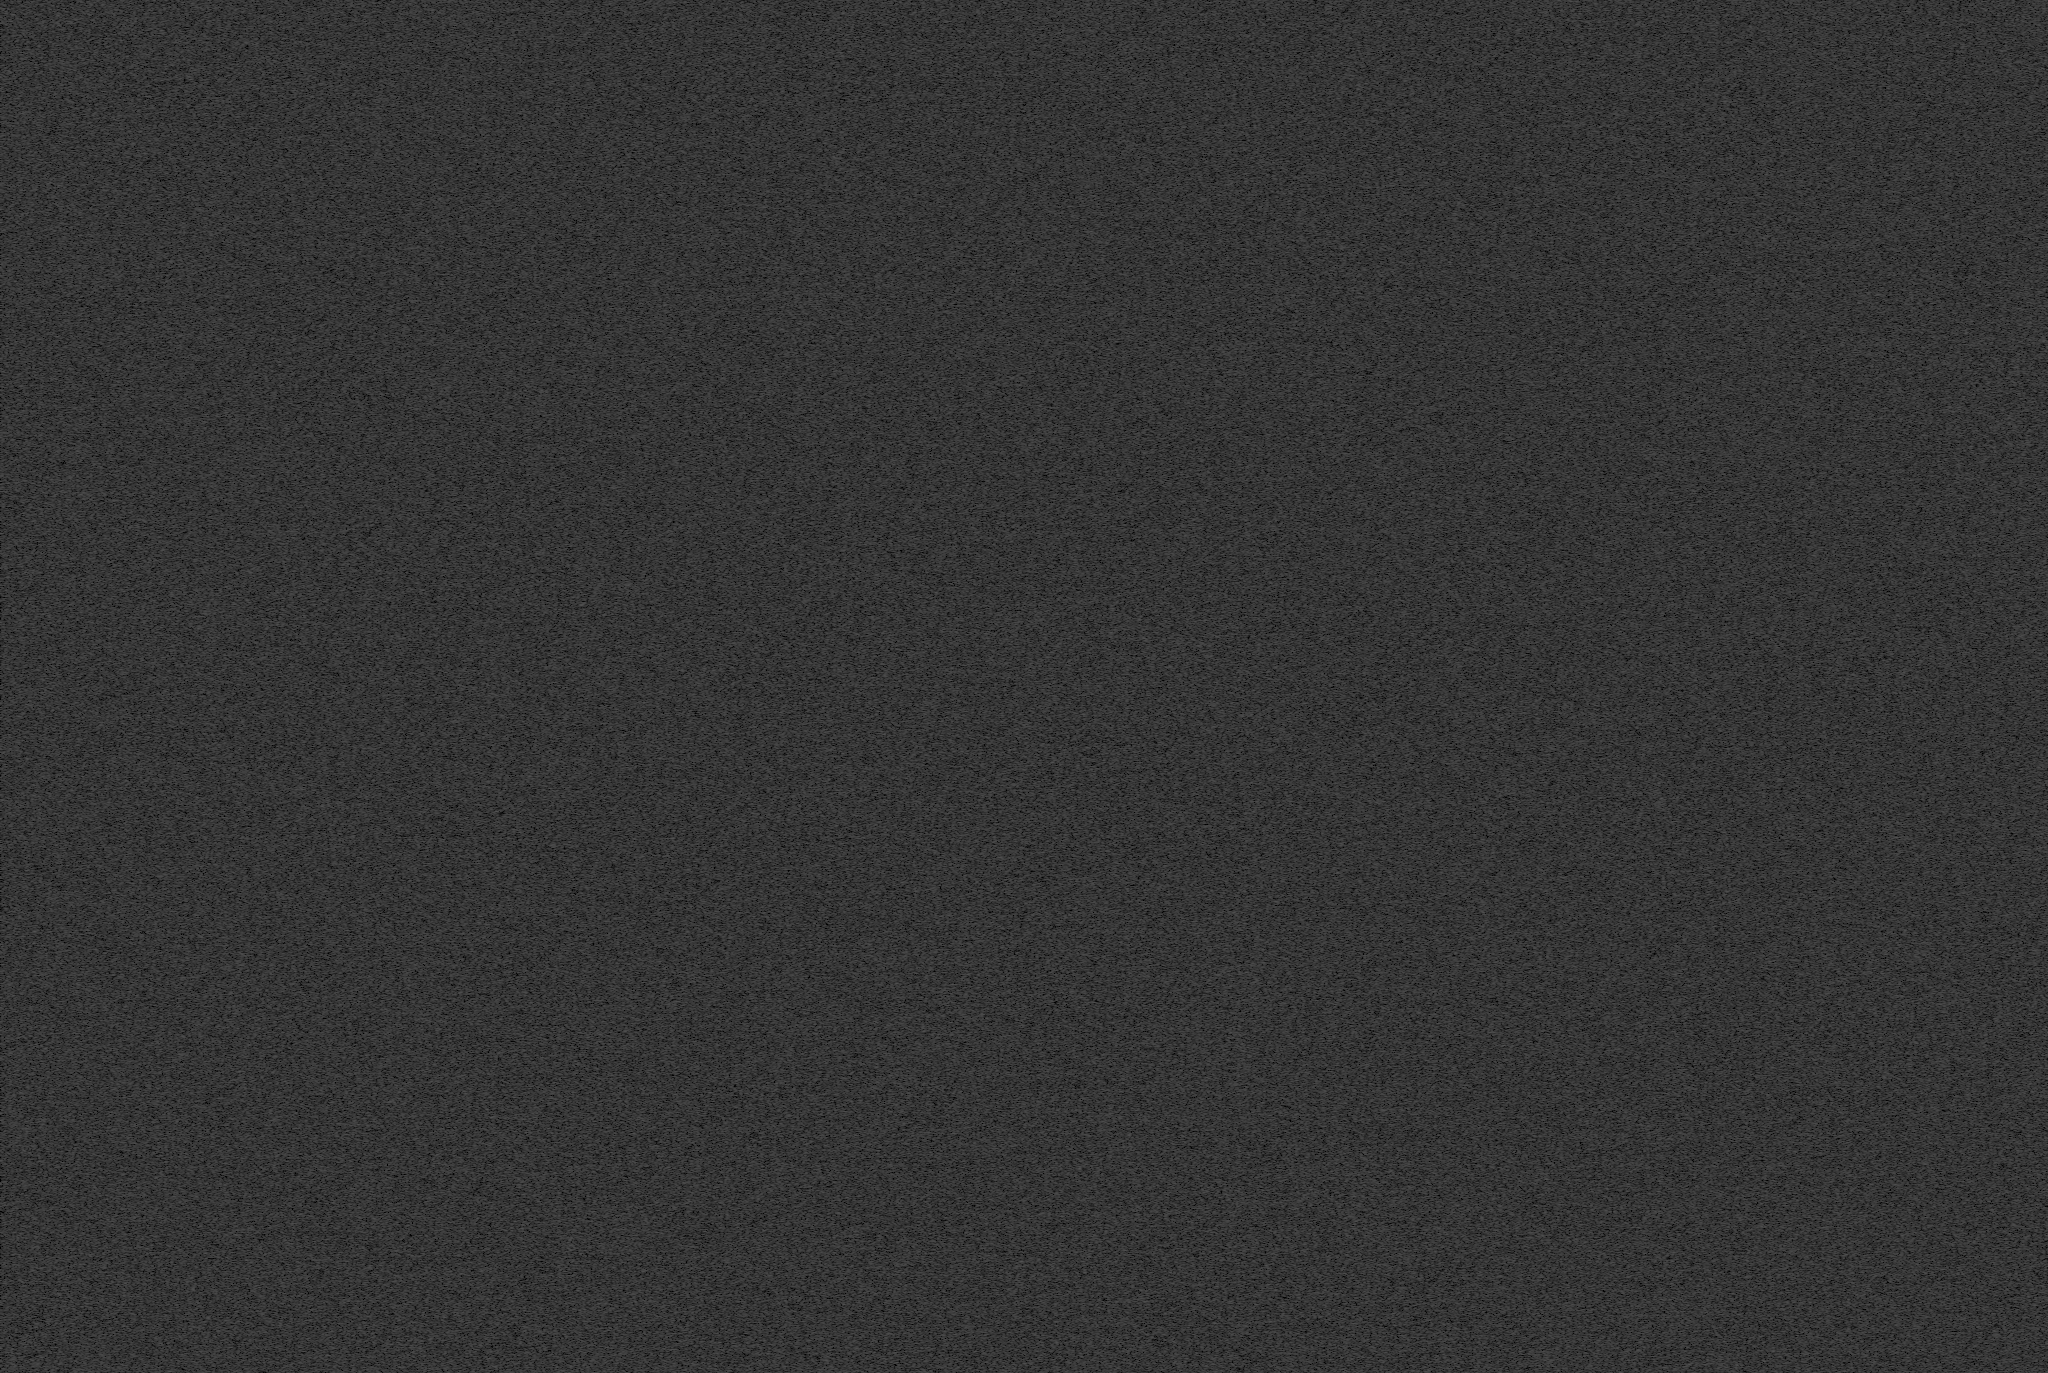wv_am: (463, 0, 469, 1371), (691, 2, 695, 1371)
wv_cw: (366, 0, 381, 1373), (790, 0, 806, 1373)
wv_lsb: (593, 1278, 597, 1361), (706, 1040, 711, 1105), (591, 423, 597, 470), (708, 676, 711, 746), (706, 37, 711, 77), (593, 999, 597, 1033), (708, 547, 711, 596), (591, 486, 597, 509), (591, 958, 597, 978), (593, 1250, 597, 1276), (593, 910, 597, 932), (708, 1106, 711, 1139), (591, 513, 597, 529), (708, 1189, 711, 1220), (708, 634, 711, 665), (708, 222, 711, 253), (593, 1088, 597, 1108), (593, 1175, 597, 1194), (593, 1036, 597, 1053), (708, 1287, 711, 1312), (708, 1224, 711, 1247), (593, 1229, 596, 1250), (708, 1140, 711, 1162), (708, 611, 711, 633), (593, 1067, 597, 1080), (593, 552, 597, 565), (708, 135, 711, 155), (708, 93, 711, 113), (593, 1157, 596, 1175), (708, 115, 711, 132), (708, 1247, 711, 1264), (593, 165, 597, 176), (708, 175, 711, 190), (593, 1140, 596, 1155), (593, 633, 596, 647), (593, 535, 597, 544), (593, 156, 597, 165), (708, 78, 711, 90), (593, 1203, 596, 1215), (593, 593, 596, 605), (591, 474, 597, 480), (708, 201, 711, 211), (708, 159, 711, 170), (593, 1109, 596, 1120), (708, 1270, 711, 1281), (708, 1171, 711, 1181), (708, 192, 711, 201), (593, 1217, 597, 1223), (593, 1129, 596, 1139), (593, 932, 596, 941), (593, 618, 596, 627), (593, 578, 597, 584), (708, 772, 711, 782), (708, 264, 711, 273), (593, 1361, 596, 1368), (593, 1122, 596, 1129), (593, 1057, 596, 1065), (593, 702, 596, 709), (593, 693, 596, 700), (593, 682, 596, 690), (708, 667, 711, 674), (593, 1195, 596, 1201), (593, 991, 596, 998), (593, 979, 596, 985), (593, 674, 596, 680), (593, 660, 596, 667), (593, 585, 596, 591), (708, 1316, 711, 1322), (708, 1162, 711, 1168), (708, 746, 711, 752), (708, 598, 711, 604), (708, 539, 711, 546), (708, 280, 711, 287), (708, 12, 711, 17), (593, 952, 596, 956), (593, 944, 596, 949), (593, 483, 597, 486), (708, 1036, 711, 1040), (708, 760, 711, 765), (708, 754, 711, 759), (708, 604, 711, 608), (708, 533, 711, 538), (708, 300, 711, 305), (593, 1368, 596, 1371), (593, 1224, 596, 1227), (593, 877, 596, 880), (593, 725, 596, 728), (593, 716, 596, 719), (593, 671, 596, 674), (593, 654, 596, 657), (593, 628, 596, 631), (593, 549, 596, 552), (593, 530, 596, 533), (593, 509, 596, 512), (593, 195, 596, 198), (593, 182, 596, 185), (708, 1283, 711, 1286), (708, 1266, 711, 1269), (708, 1221, 711, 1224), (708, 1183, 711, 1186), (708, 401, 711, 405), (708, 256, 711, 259), (708, 218, 711, 221), (708, 213, 711, 216), (593, 745, 596, 746)
wv_usb: (1389, 8, 1395, 1373), (787, 487, 793, 798), (787, 8, 793, 288), (787, 1181, 793, 1342), (842, 369, 849, 509), (787, 1011, 793, 1146), (787, 306, 793, 415), (787, 818, 793, 915), (787, 916, 793, 1011), (842, 582, 849, 662), (787, 417, 793, 486), (842, 696, 849, 757), (842, 1149, 849, 1206), (842, 224, 849, 277), (842, 1286, 849, 1338), (842, 524, 849, 575), (842, 1099, 849, 1148), (842, 296, 849, 342), (842, 1224, 849, 1263), (842, 1339, 849, 1373), (787, 1148, 793, 1181), (842, 9, 849, 41), (842, 664, 849, 694), (842, 759, 849, 788), (842, 43, 849, 72), (787, 1344, 793, 1371), (842, 1263, 849, 1286), (844, 97, 849, 127), (842, 788, 849, 808), (787, 798, 793, 818), (842, 1080, 849, 1099), (844, 1054, 849, 1079), (844, 958, 849, 982), (844, 904, 847, 941), (844, 875, 849, 899), (842, 342, 849, 360), (787, 290, 793, 305), (842, 1208, 849, 1223), (842, 279, 849, 294), (844, 840, 847, 866), (844, 999, 847, 1021), (844, 192, 847, 213), (844, 1027, 847, 1047), (844, 820, 847, 838), (842, 990, 849, 998), (844, 138, 847, 152), (842, 513, 849, 519), (842, 362, 849, 368), (844, 947, 847, 956), (844, 81, 849, 87), (844, 215, 847, 222), (844, 1048, 847, 1054), (844, 867, 847, 873), (844, 185, 847, 192), (844, 809, 847, 814), (844, 576, 847, 581), (844, 509, 849, 512), (844, 164, 847, 169), (844, 158, 847, 162), (844, 92, 847, 97), (844, 1022, 847, 1025), (844, 815, 847, 818), (844, 153, 847, 156)
